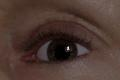eye: (48, 39, 77, 61)
